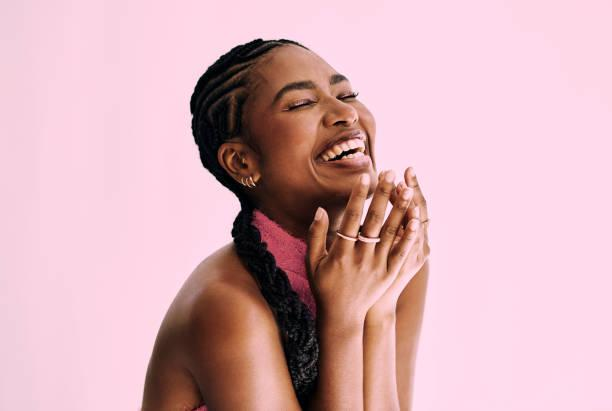no_goggle: (251, 58, 382, 132)
no_helmet: (151, 11, 331, 187)
no_vest: (138, 228, 436, 410)
